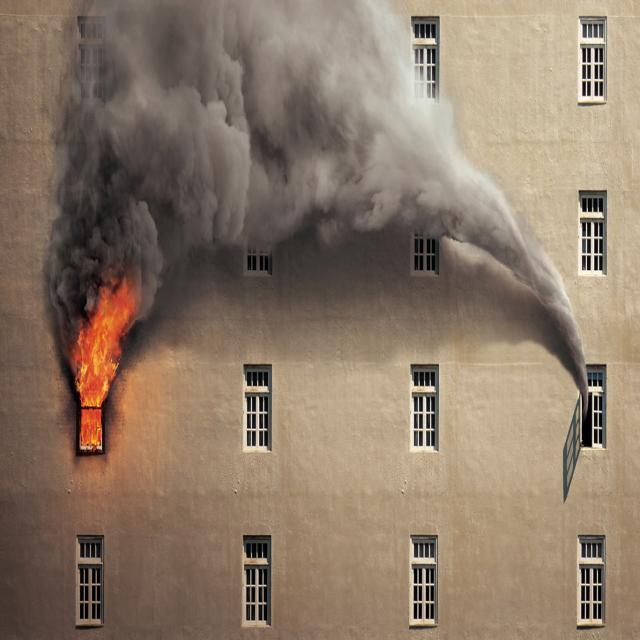Fire: (66, 277, 132, 463)
Smoke: (47, 3, 591, 434)
